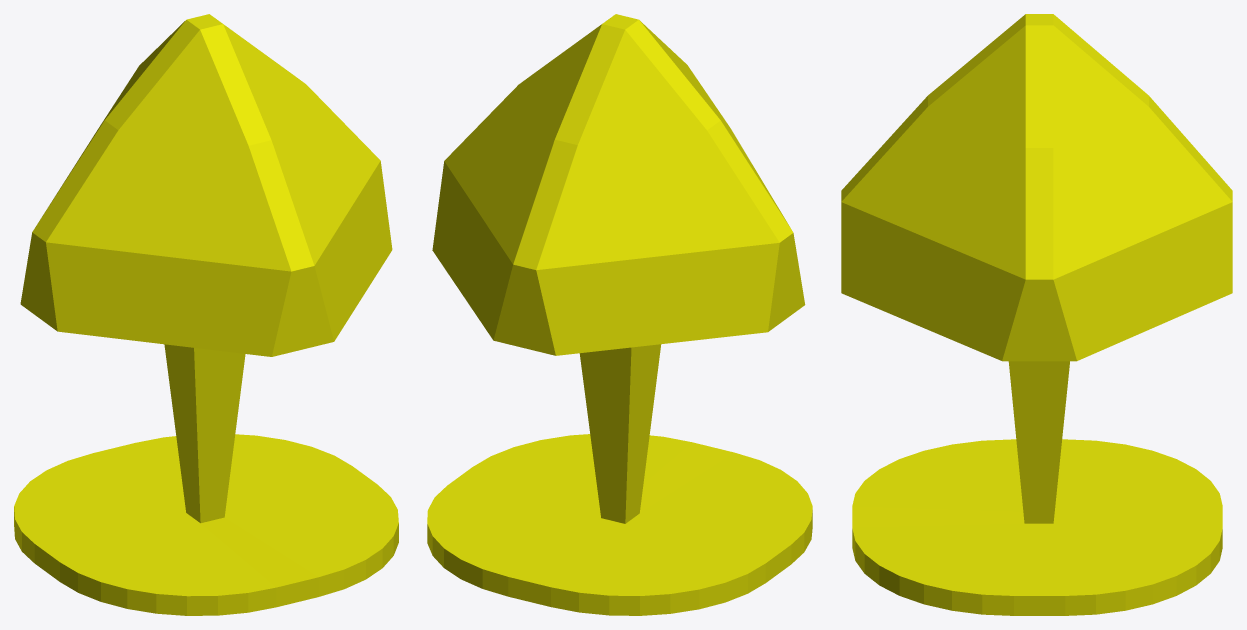
The model's file is lampsmall.fbx.
The picture shows the model from 3 angles, left to right: view 1: azimuth 30°, elevation 25°; view 2: azimuth 150°, elevation 25°; view 3: azimuth 270°, elevation 25°; orthographic projection.
Parts seen in each view (by area): view 1: Cube; view 2: Cube; view 3: Cube.
Part boxes in pixels (bbox=[...]): Cube: bbox=[14, 14, 398, 615]; Cube: bbox=[427, 14, 812, 615]; Cube: bbox=[841, 14, 1232, 615].
Size of the model in its own units: 720 by 1053 by 722.
